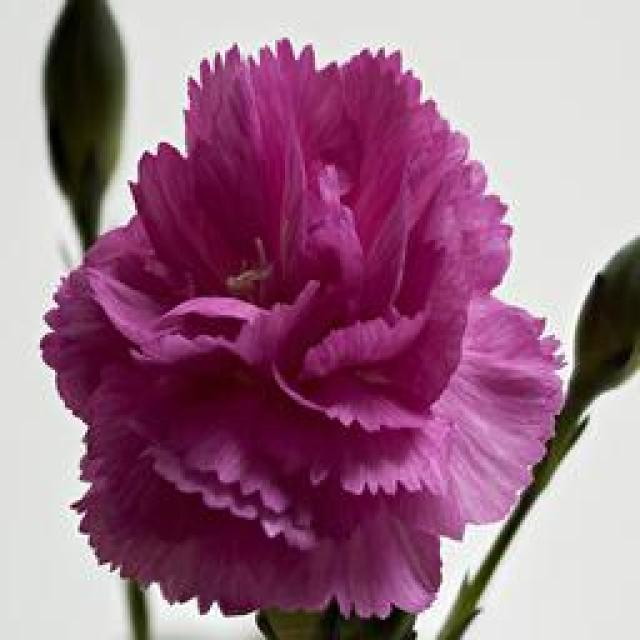carnation: (44, 34, 574, 616)
